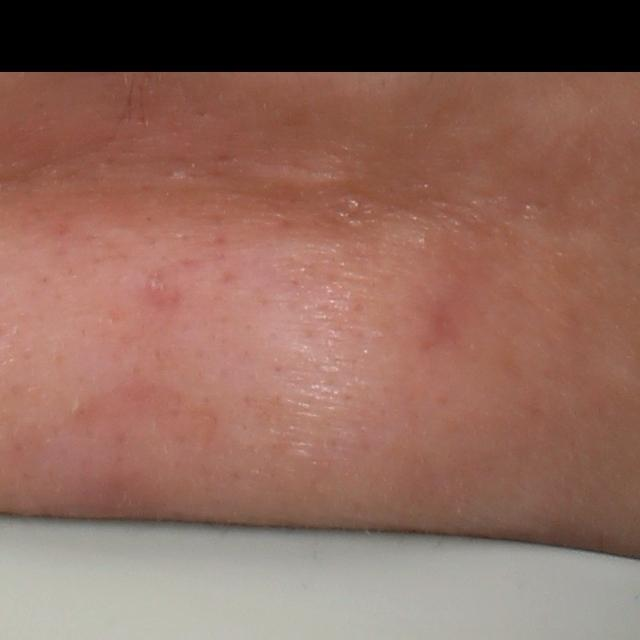hypertrophic_scar: (232, 153, 356, 196)
